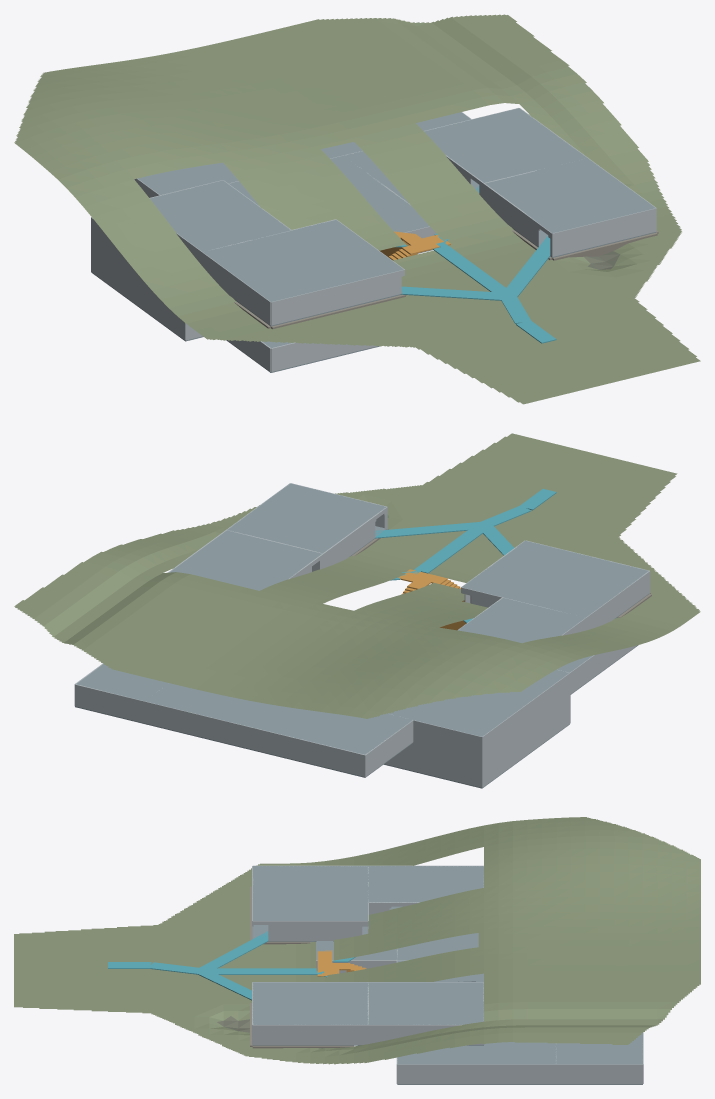
The model's file is open-circulation.glb.
3 views of the same model, one above another, from view 1: azimuth 30°, elevation 25°; view 2: azimuth 150°, elevation 25°; view 3: azimuth 270°, elevation 25° (orthographic). The views are drawn at different scales.
Parts seen in each view (by area): view 1: Saved editor macroterrain WLD-05, Ceiling cap shack, Ceiling cap assay, Ceiling cap wash, Ceiling cap stores, Flat route shell Wall shack S, Wall lower W, Wall assay S, Ceiling cap cross, Wall vent S, Wall shack W, Ceiling cap haul.004 (+8 smaller); view 2: Saved editor macroterrain WLD-05, Ceiling cap shack, Ceiling cap cross, Ceiling cap assay, Ceiling cap wash, Wall cross N, Ceiling cap ore-west, Ceiling cap stores, Wall lower W, Wall lower N, Wall ore-west W, Ceiling cap lift (+8 smaller); view 3: Saved editor macroterrain WLD-05, Ceiling cap shack, Ceiling cap assay, Ceiling cap wash, Ceiling cap stores, Wall ore-east E, Ceiling cap ore-east, Wall assay E, Ceiling cap lift, Flat route shell Wall shack E, Wall lift E, Ceiling cap ore-west (+4 smaller).
Boxes of the visible parts, x1=… form: Saved editor macroterrain WLD-05: x1=14, y1=14, x2=700, y2=404; Ceiling cap shack: x1=203, y1=220, x2=403, y2=301; Ceiling cap assay: x1=485, y1=158, x2=655, y2=233; Ceiling cap wash: x1=424, y1=108, x2=586, y2=182; Ceiling cap stores: x1=150, y1=180, x2=290, y2=251; Flat route shell Wall shack S: x1=271, y1=269, x2=404, y2=325; Wall lower W: x1=91, y1=241, x2=185, y2=340; Wall assay S: x1=552, y1=208, x2=656, y2=256; Ceiling cap cross: x1=137, y1=142, x2=362, y2=195; Wall vent S: x1=271, y1=342, x2=376, y2=371; Wall shack W: x1=202, y1=252, x2=270, y2=325; Ceiling cap haul.004: x1=363, y1=190, x2=429, y2=232; Saved editor macroterrain WLD-05: x1=14, y1=433, x2=700, y2=718; Ceiling cap shack: x1=462, y1=540, x2=648, y2=617; Ceiling cap cross: x1=144, y1=683, x2=412, y2=754; Ceiling cap assay: x1=227, y1=483, x2=386, y2=553; Ceiling cap wash: x1=169, y1=530, x2=322, y2=590; Wall cross N: x1=144, y1=701, x2=365, y2=776; Ceiling cap ore-west: x1=388, y1=669, x2=569, y2=736; Ceiling cap stores: x1=458, y1=598, x2=585, y2=643; Wall lower W: x1=482, y1=694, x2=570, y2=787; Wall lower N: x1=385, y1=742, x2=482, y2=787; Wall ore-west W: x1=482, y1=673, x2=570, y2=758; Ceiling cap lift: x1=76, y1=663, x2=168, y2=700; Saved editor macroterrain WLD-05: x1=14, y1=817, x2=700, y2=1064; Ceiling cap shack: x1=252, y1=866, x2=368, y2=920; Ceiling cap assay: x1=252, y1=982, x2=368, y2=1024; Ceiling cap wash: x1=368, y1=982, x2=483, y2=1024; Ceiling cap stores: x1=368, y1=866, x2=483, y2=902; Wall ore-east E: x1=397, y1=1064, x2=556, y2=1084; Ceiling cap ore-east: x1=397, y1=1042, x2=556, y2=1064; Wall assay E: x1=252, y1=1024, x2=368, y2=1044; Ceiling cap lift: x1=556, y1=1033, x2=642, y2=1064; Flat route shell Wall shack E: x1=268, y1=921, x2=368, y2=940; Wall lift E: x1=556, y1=1064, x2=642, y2=1084; Ceiling cap ore-west: x1=397, y1=933, x2=478, y2=959.
Size of the model in its own units: 70 by 17.77 by 95.
